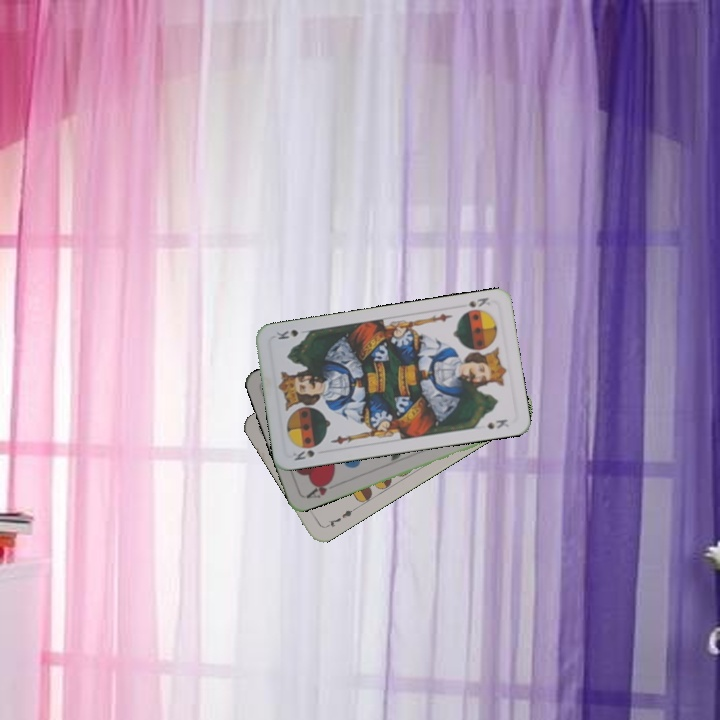E7: (321, 504, 358, 531)
HA: (302, 475, 336, 501)
SK: (290, 442, 320, 463), (464, 293, 493, 310)
